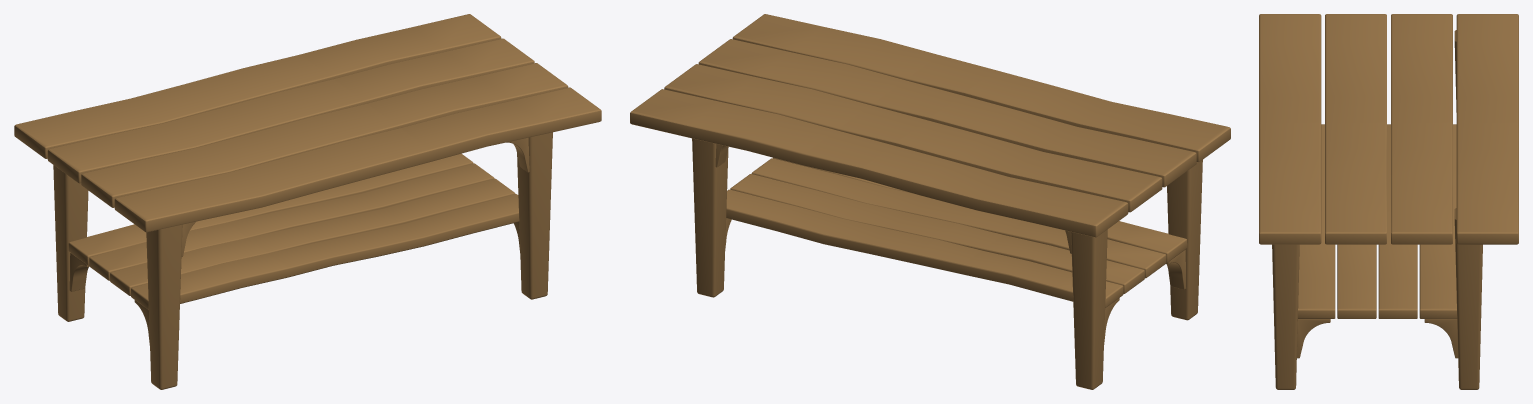
The model's file is mesa.fbx.
3 views of the same model, side by side, from view 1: azimuth 30°, elevation 25°; view 2: azimuth 150°, elevation 25°; view 3: azimuth 270°, elevation 25° (orthographic). The views are drawn at different scales.
Visible parts, largest first — view 1: Mesa; view 2: Mesa; view 3: Mesa.
Part boxes in pixels (x1,y1,x2,y2): Mesa: (14, 14, 601, 389); Mesa: (630, 14, 1230, 389); Mesa: (1259, 14, 1518, 389).
Size of the model in its own units: 602 by 233 by 301.
